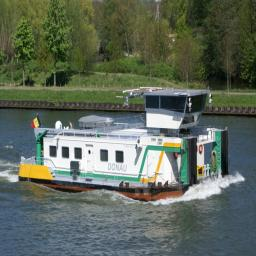tugboat: (17, 86, 234, 208)
